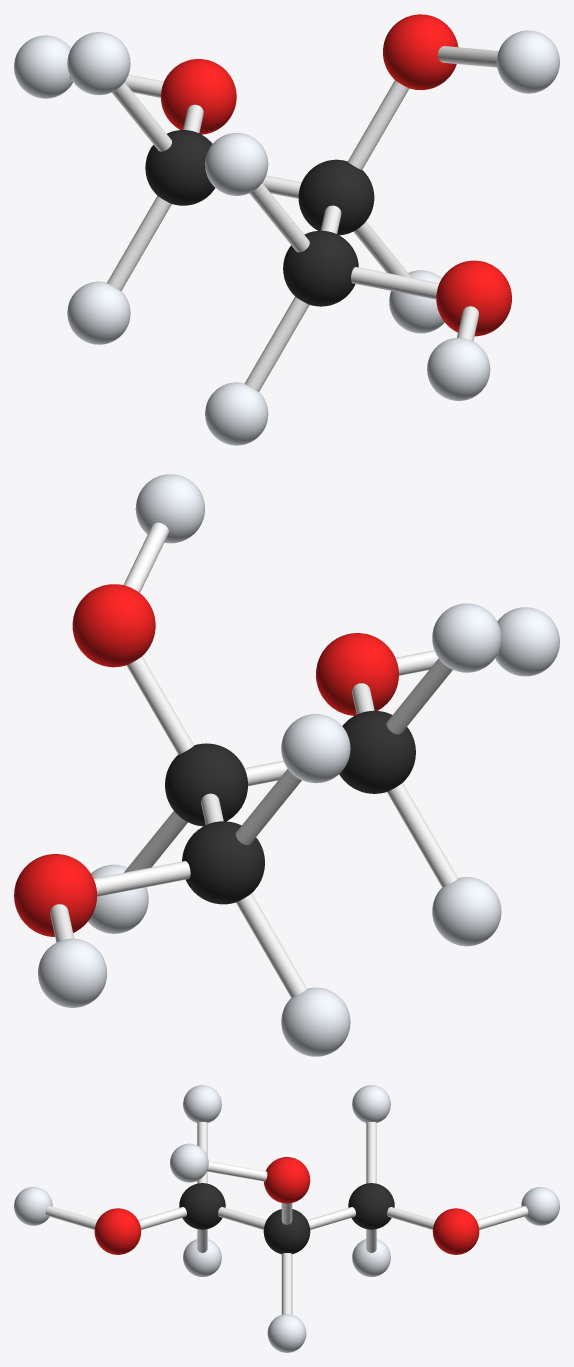
The model's file is glycerin.fbx.
3 views of the same model, one above another, from view 1: azimuth 30°, elevation 25°; view 2: azimuth 150°, elevation 25°; view 3: azimuth 270°, elevation 25° (orthographic). The views are drawn at different scales.
Visible parts, largest first — view 1: glycerin; view 2: glycerin; view 3: glycerin.
Boxes of the visible parts, left/top/right/bottom form: glycerin: left=14, top=14, right=559, bottom=445; glycerin: left=14, top=474, right=559, bottom=1056; glycerin: left=14, top=1085, right=559, bottom=1352.
Bounding box in the file's own units: 184 × 182 × 422.
